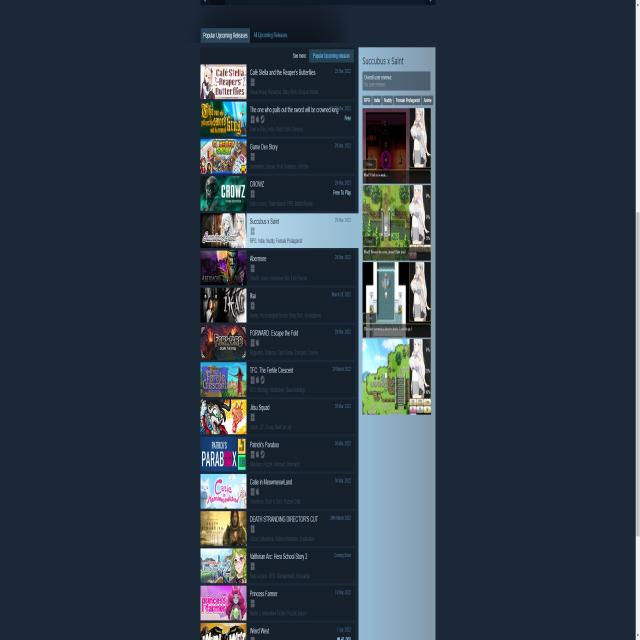tab-bar: (198, 24, 302, 45)
